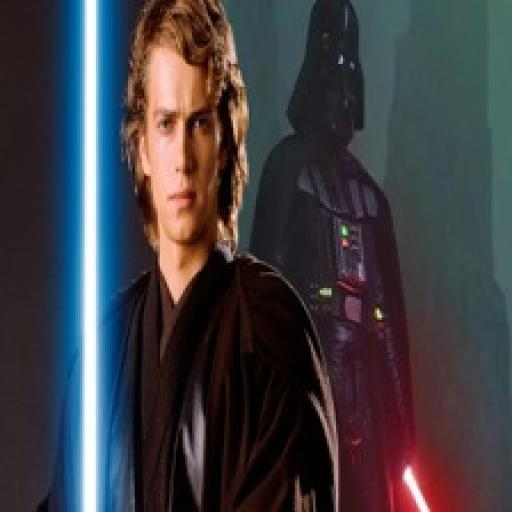human: (58, 0, 342, 512), (250, 0, 422, 508)
lightsaber: (72, 0, 112, 512)
sith saber: (388, 436, 436, 512)
